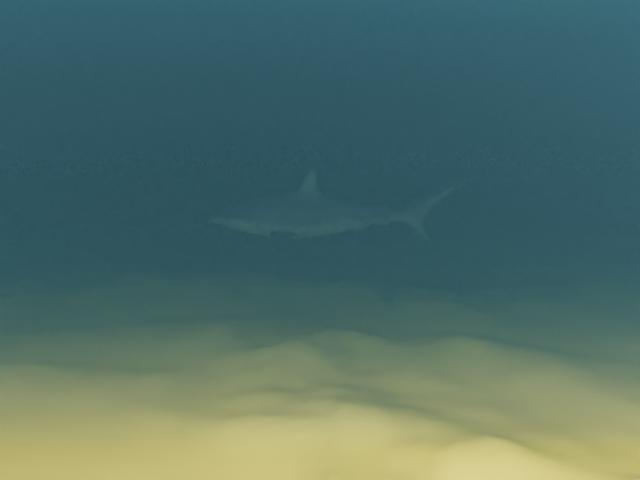Carribean Shark.001: (209, 166, 466, 252)
